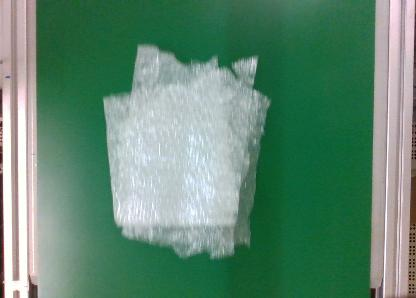Others: (100, 40, 270, 262)
